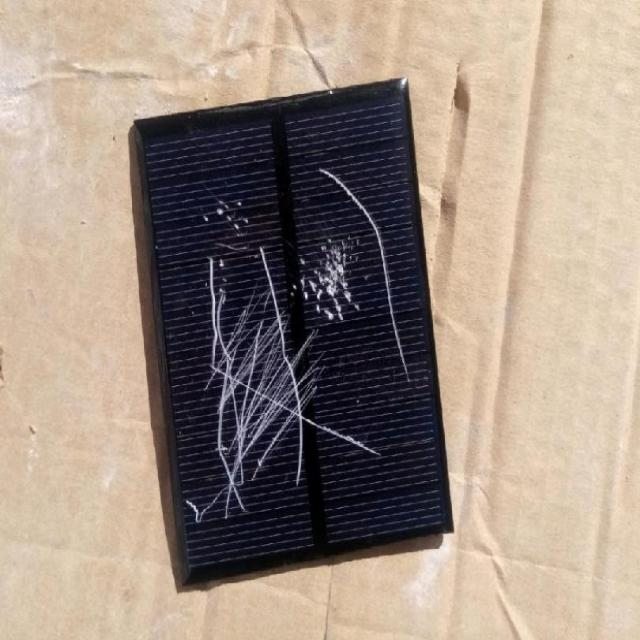faulty: (133, 96, 446, 570)
